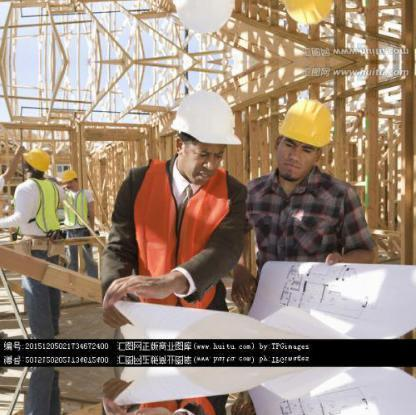helmet: (168, 86, 242, 153), (277, 98, 334, 149), (21, 146, 50, 178), (58, 168, 80, 186)
